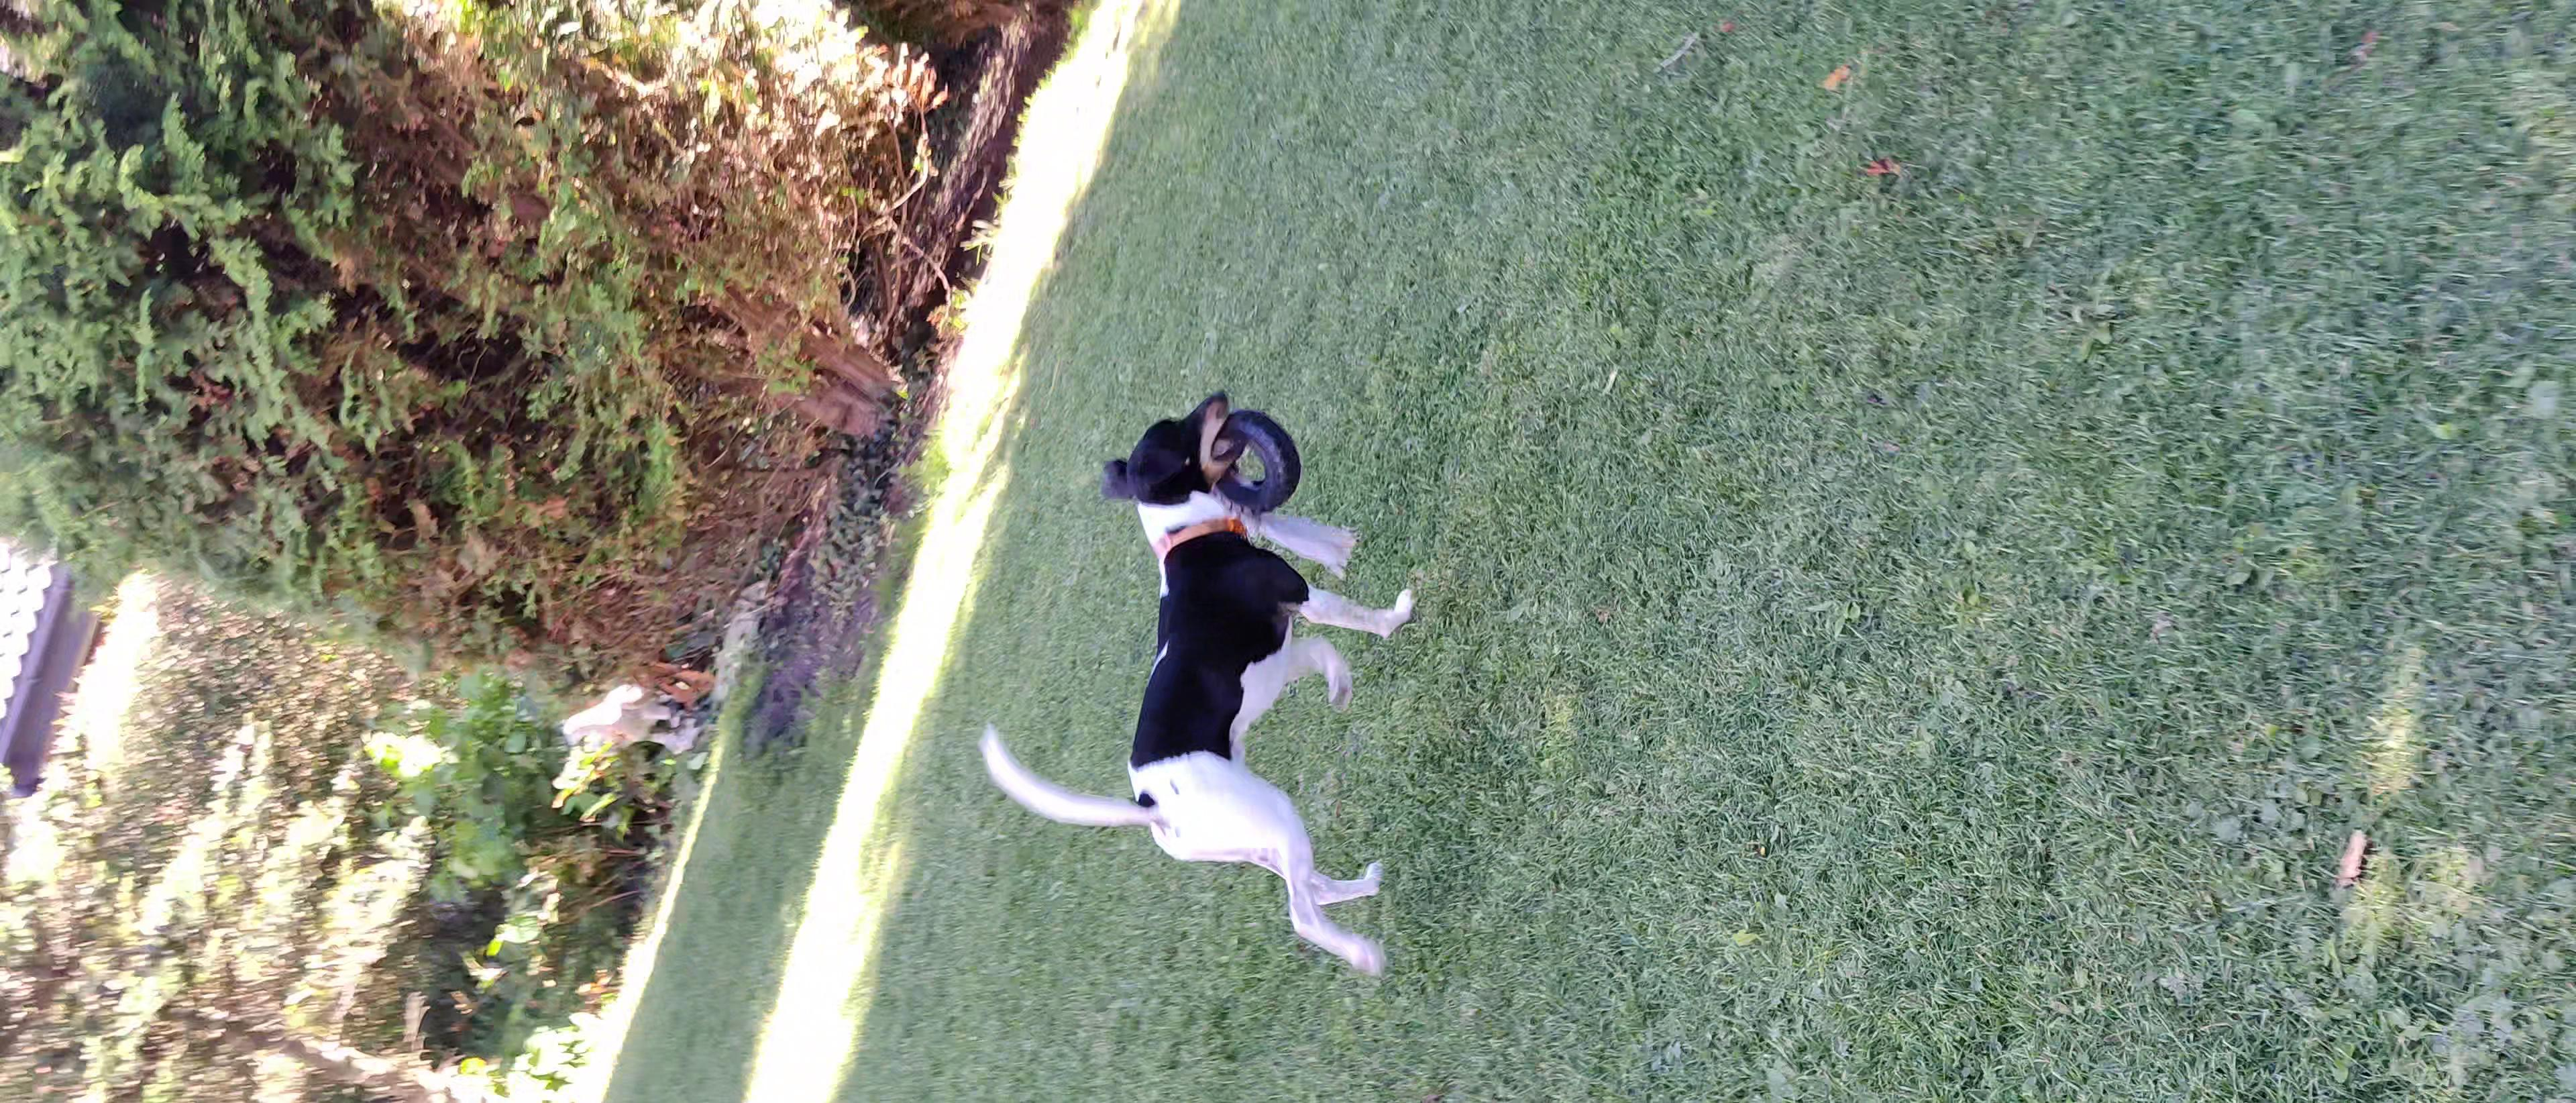Dog: (969, 388, 1423, 983)
